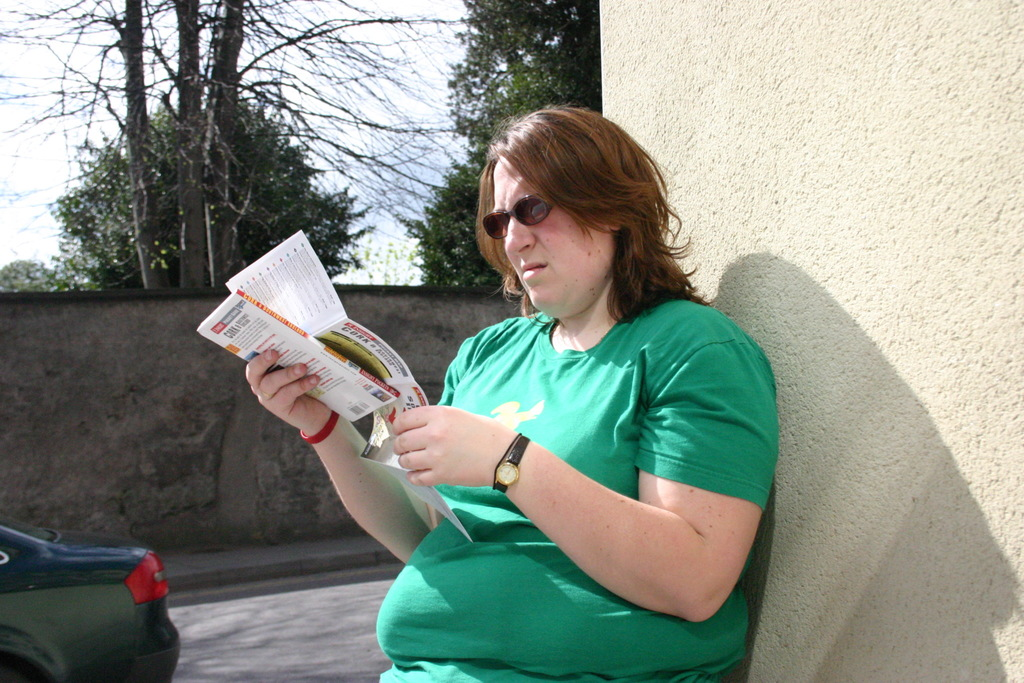Car: (0, 517, 189, 676)
